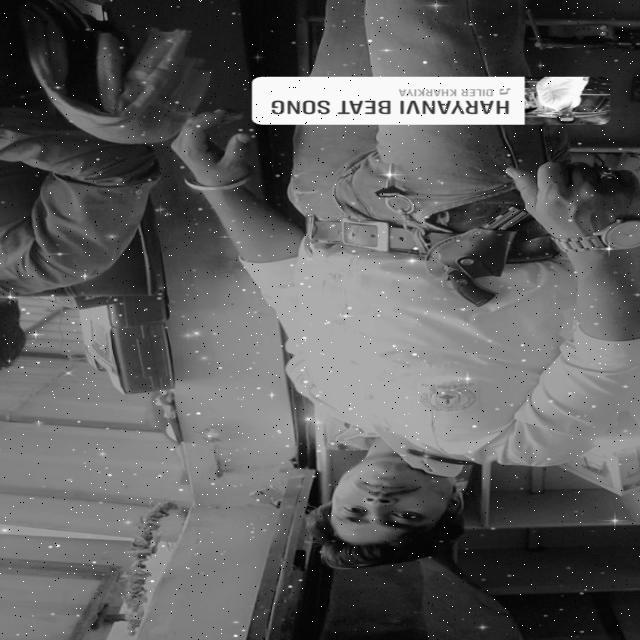gun: (406, 192, 544, 312)
